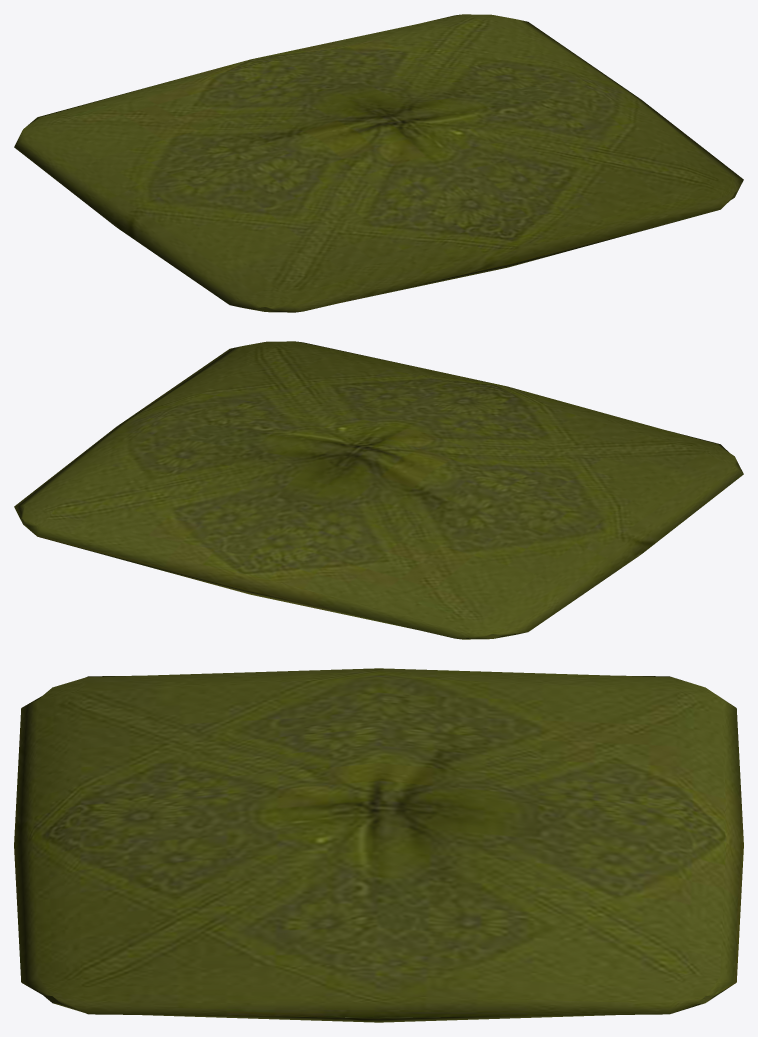
The model's file is zabuton.fbx.
3 renders of one model, top to bottom at view 1: azimuth 30°, elevation 25°; view 2: azimuth 150°, elevation 25°; view 3: azimuth 270°, elevation 25°, orthographic. The views are drawn at different scales.
Parts seen in each view (by area): view 1: zabuton; view 2: zabuton; view 3: zabuton.
Part boxes in pixels (box(x1,y1,x2,y2)): zabuton: box(14, 14, 743, 312); zabuton: box(14, 341, 743, 639); zabuton: box(14, 668, 743, 1022).
Size of the model in its own units: 16.96 by 2.45 by 15.17.
1 material, 1 textured.
